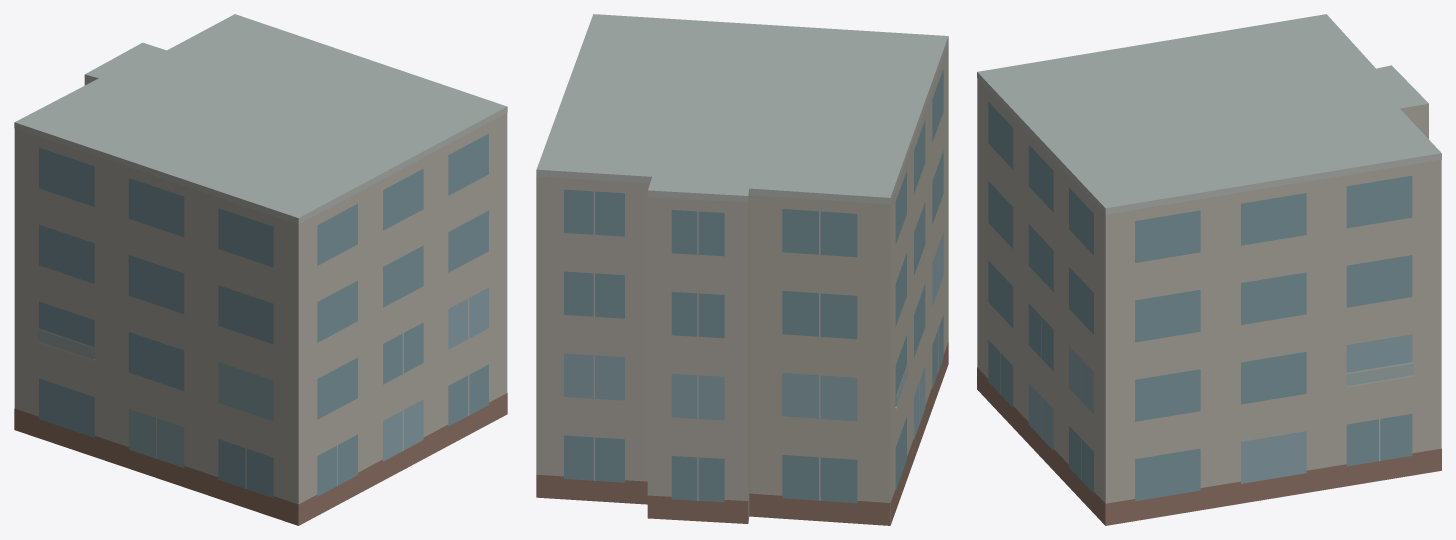
The model's file is survey-upis-33034488.glb.
The picture shows the model from 3 angles, left to right: view 1: azimuth 30°, elevation 25°; view 2: azimuth 150°, elevation 25°; view 3: azimuth 270°, elevation 25°; orthographic projection. The views are drawn at different scales.
Visible parts, largest first — view 1: survey-upis-33034488.tmp; view 2: survey-upis-33034488.tmp; view 3: survey-upis-33034488.tmp.
Part boxes in pixels (<box>): survey-upis-33034488.tmp: <box>14,14,507,525</box>; survey-upis-33034488.tmp: <box>536,14,948,525</box>; survey-upis-33034488.tmp: <box>977,14,1441,525</box>.
Size of the model in its own units: 16.02 by 12.2 by 16.19.
